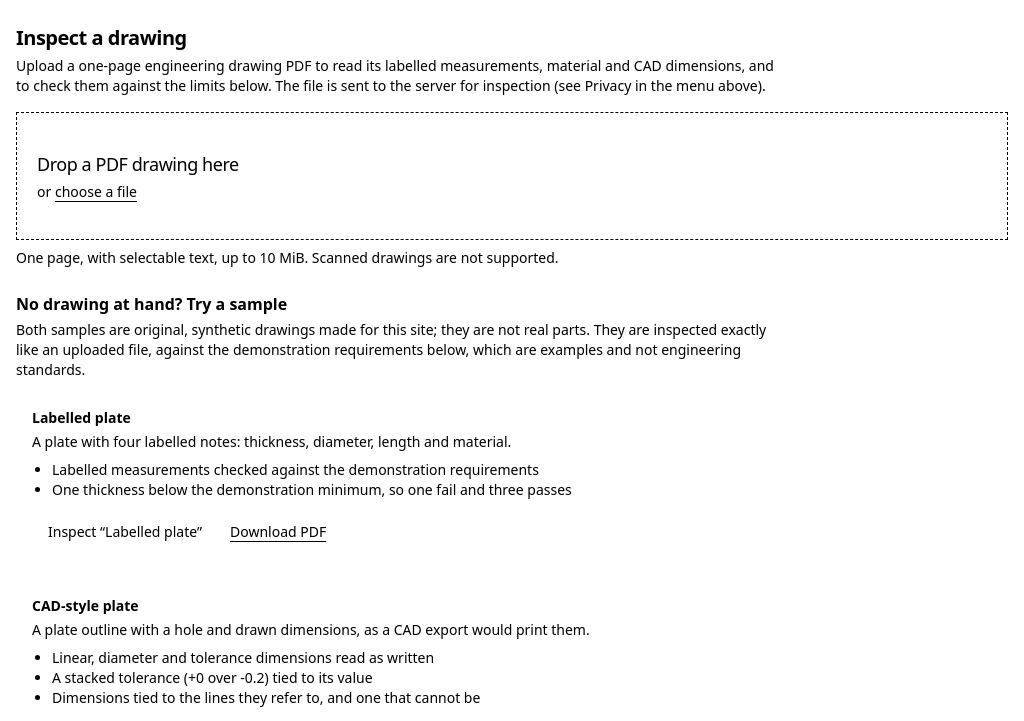
it: sample drawings › says so when the sample cannot be loaded, and starts no inspection
Click the button "Inspect “Labelled plate”" at (125, 532), box [32,512,218,552]
(page scrolled)
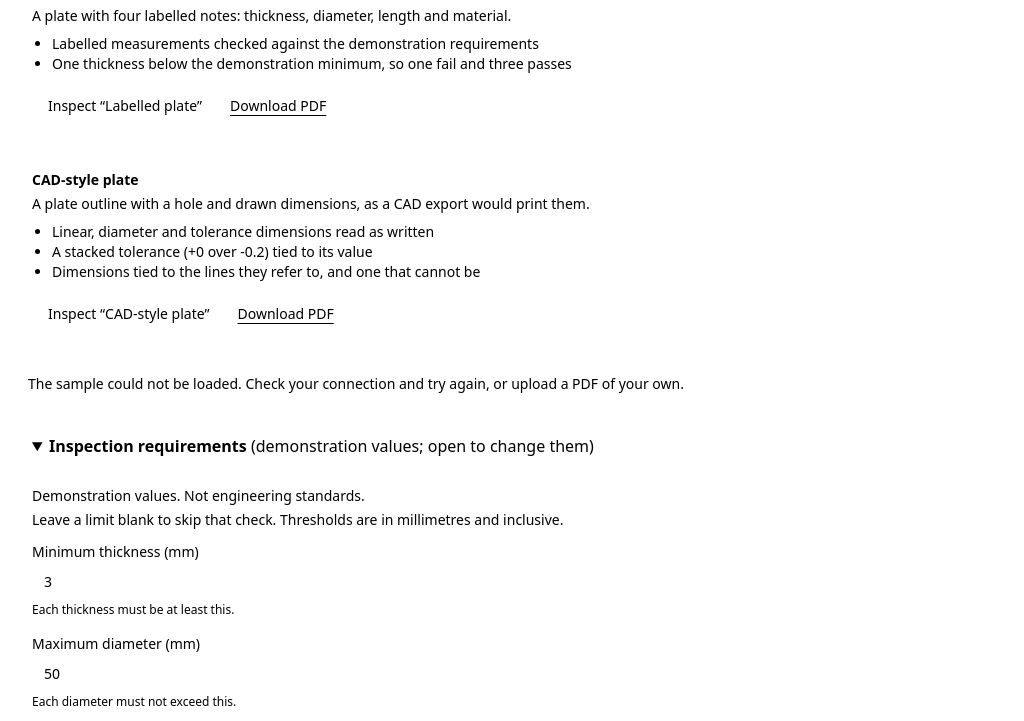
Expected: the message shows "could not be loaded", [28,374,684,393]
